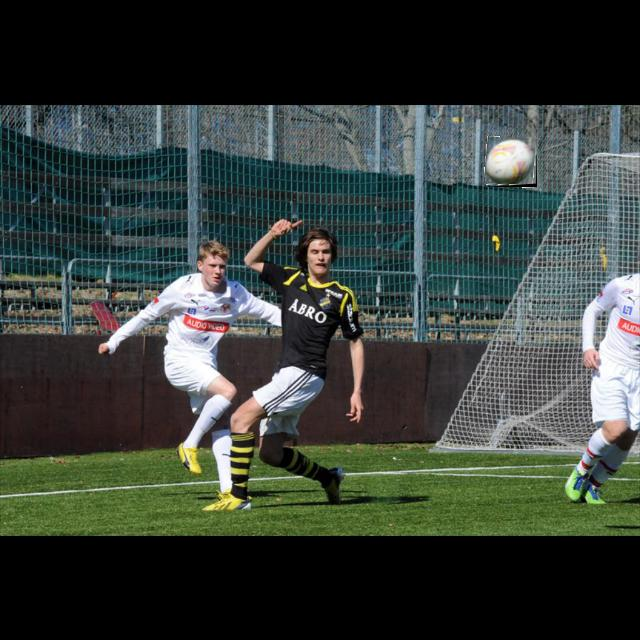Football: (485, 137, 537, 187)
